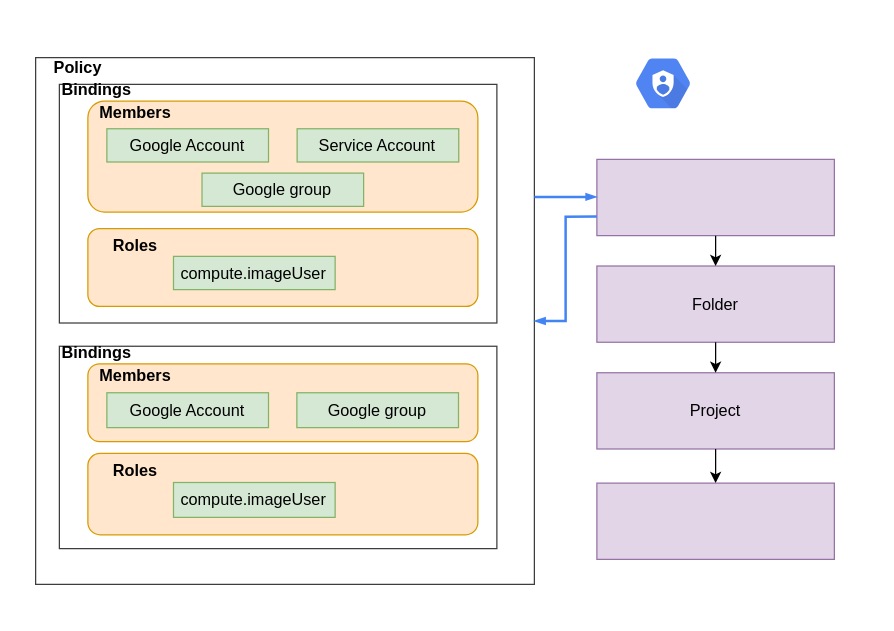
Image size: 894x631. Some labels were removed from this diagram. Each missing label, with the centre of its shape:
"Cloud IAM" belongs at pixel 662 82.
"Organization" belongs at pixel 715 197.
"Resource" belongs at pixel 715 520.
